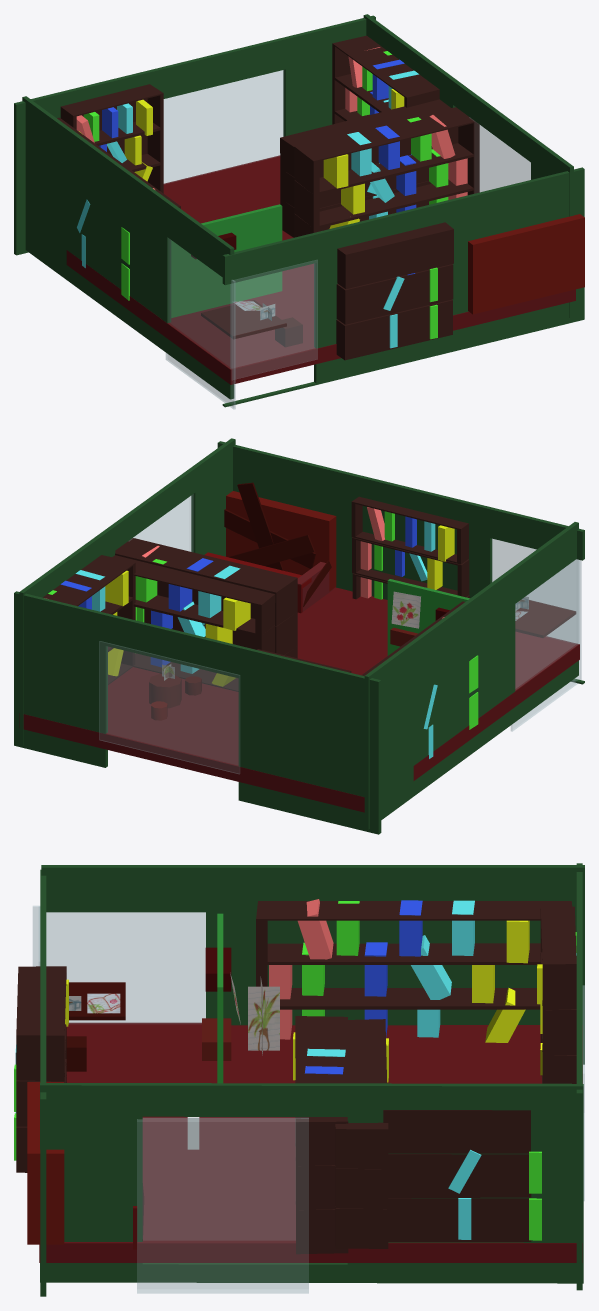
The model's file is sceeene.glb.
3 views of the same model, one above another, from view 1: azimuth 30°, elevation 25°; view 2: azimuth 150°, elevation 25°; view 3: azimuth 270°, elevation 25° (orthographic). The views are drawn at different scales.
Visible parts, largest first — view 1: CSGBox3D32, CSGBox3D53, CSGBox3D2, CSGBox3D63, Cube.068, Cube.105, Cube.036, CSGBox3D122, Cube.004, Cube.002, CSGBox3D82, CSGBox3D43 (+14 smaller); view 2: CSGBox3D63, CSGBox3D2, CSGBox3D32, CSGBox3D53, Cube.105, CSGBox3D43, Cube.002, Cube.036, Cube.084, CSGBox3D122, Cube.068, Cube.004 (+15 smaller); view 3: CSGBox3D2, CSGBox3D43, CSGBox3D32, Cube.001, Cube.003, Cube.002, Cube.052, Cube.084, Cube.036, Cube.068, Cube.020, CSGBox3D122 (+25 smaller).
Boxes of the visible parts, box(x1,y1,x2,y2) form: CSGBox3D32: box(22, 96, 234, 399); CSGBox3D53: box(222, 167, 584, 407); CSGBox3D2: box(66, 155, 575, 384); CSGBox3D63: box(14, 15, 375, 255); Cube.068: box(336, 222, 453, 360); Cube.105: box(164, 70, 283, 183); Cube.036: box(294, 107, 479, 237); CSGBox3D122: box(468, 214, 584, 314); Cube.004: box(230, 260, 317, 379); Cube.002: box(166, 238, 235, 409); CSGBox3D82: box(171, 204, 282, 317); CSGBox3D43: box(363, 14, 573, 317); CSGBox3D63: box(14, 591, 381, 834); CSGBox3D2: box(19, 587, 579, 812); CSGBox3D32: box(364, 522, 578, 829); CSGBox3D53: box(217, 441, 584, 684); Cube.105: box(99, 641, 239, 773); CSGBox3D43: box(19, 438, 235, 745); Cube.002: box(511, 559, 581, 731); Cube.036: box(115, 538, 297, 658); Cube.084: box(112, 555, 275, 691); CSGBox3D122: box(226, 491, 336, 591); Cube.068: box(351, 496, 469, 599); Cube.004: box(492, 539, 579, 644); CSGBox3D2: box(39, 1022, 582, 1262); CSGBox3D43: box(40, 1083, 583, 1283); CSGBox3D32: box(41, 865, 584, 1064); Cube.001: box(137, 1118, 308, 1293); Cube.003: box(383, 1110, 531, 1241); Cube.002: box(33, 906, 205, 1023); Cube.052: box(256, 901, 572, 1009); Cube.084: box(335, 1019, 388, 1248); Cube.036: box(295, 1016, 348, 1254); Cube.068: box(16, 966, 66, 1172); Cube.020: box(540, 906, 576, 1083); CSGBox3D122: box(27, 1082, 64, 1244).
Size of the model in its own units: 12.65 by 5.31 by 13.13.
Materials: 26 (5 with a texture image).
